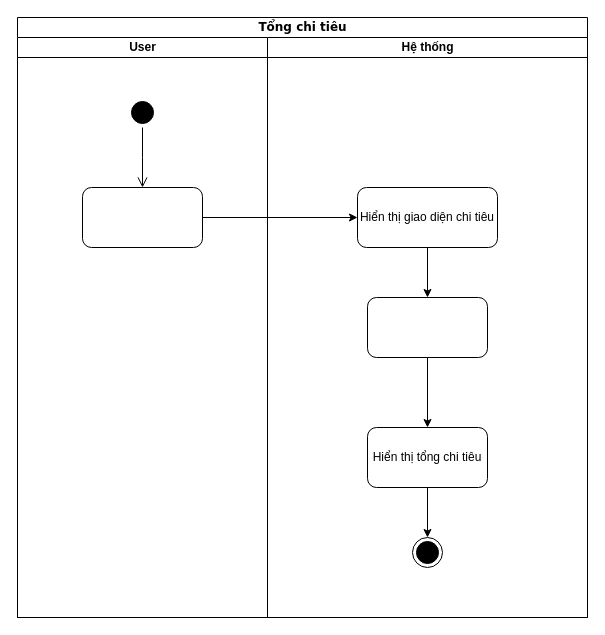
This 605x635 diagram has some shape labels left out. The centre of each missing label's shape, as x and y in pixels:
Chọn "Chi tiêu": pixel 142 217
Tính toán chi tiêu: pixel 427 327
